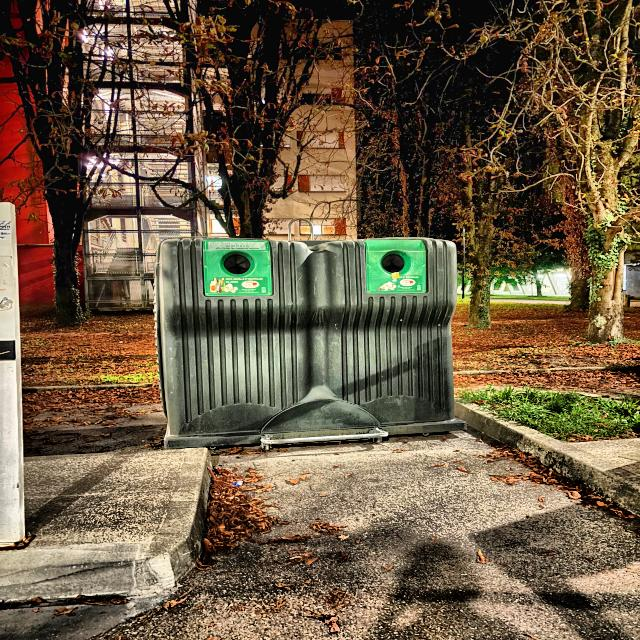arvore: (542, 8, 626, 340)
